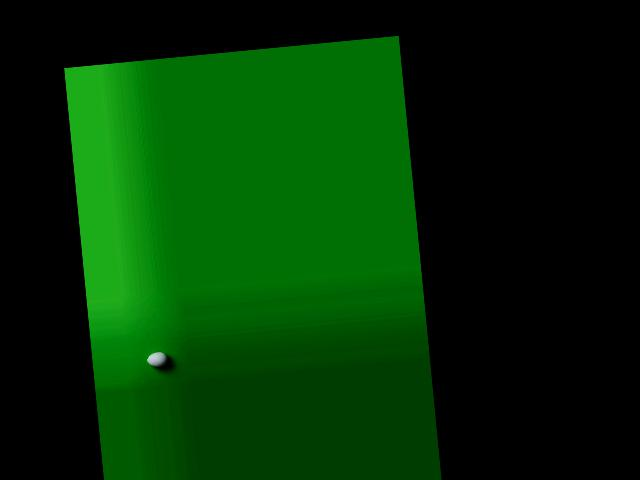egg: (146, 351, 169, 368)
